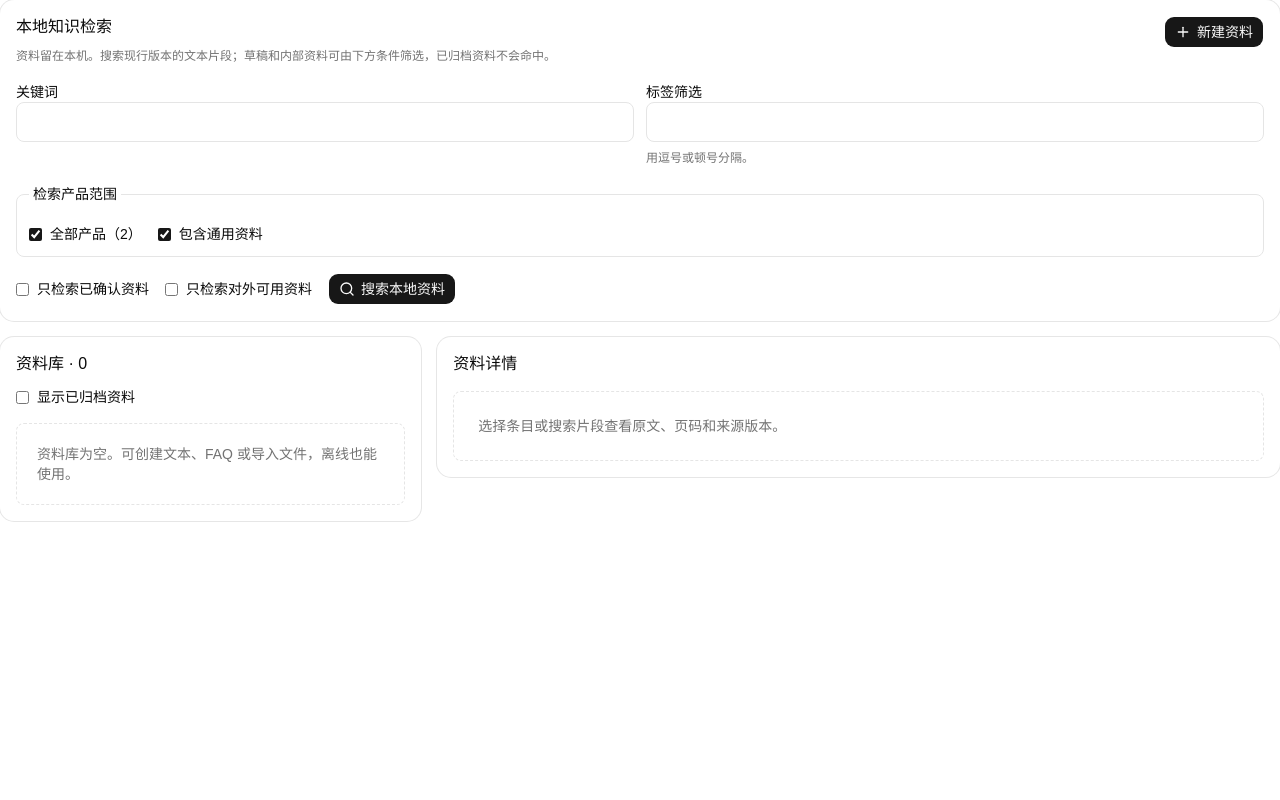
Test: local knowledge workspace › retrieves native saved material with selected scope when the document cache is stale and empty
Click the checkbox labelled "全部产品（2）": (36, 234) [29,228,42,240]
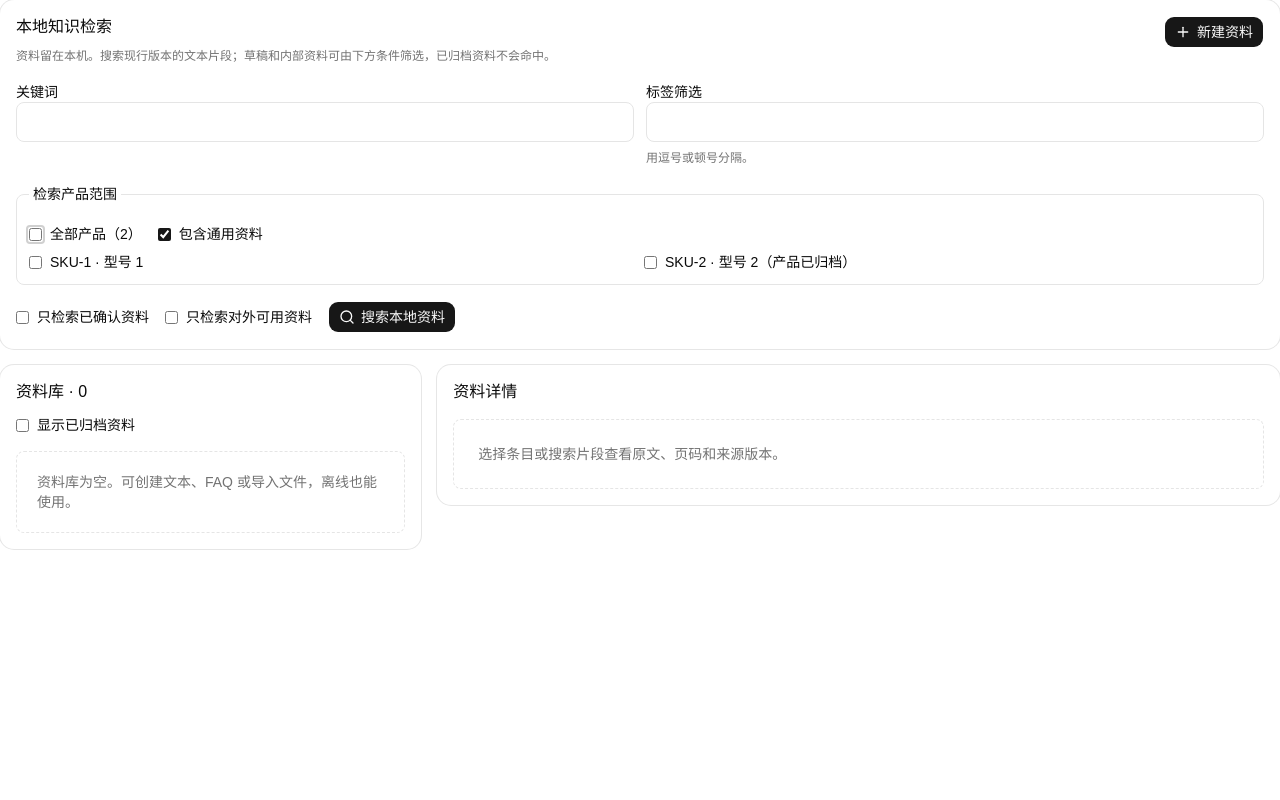
Click the checkbox labelled "SKU-1 · 型号 1": (36, 262) [29,256,42,269]
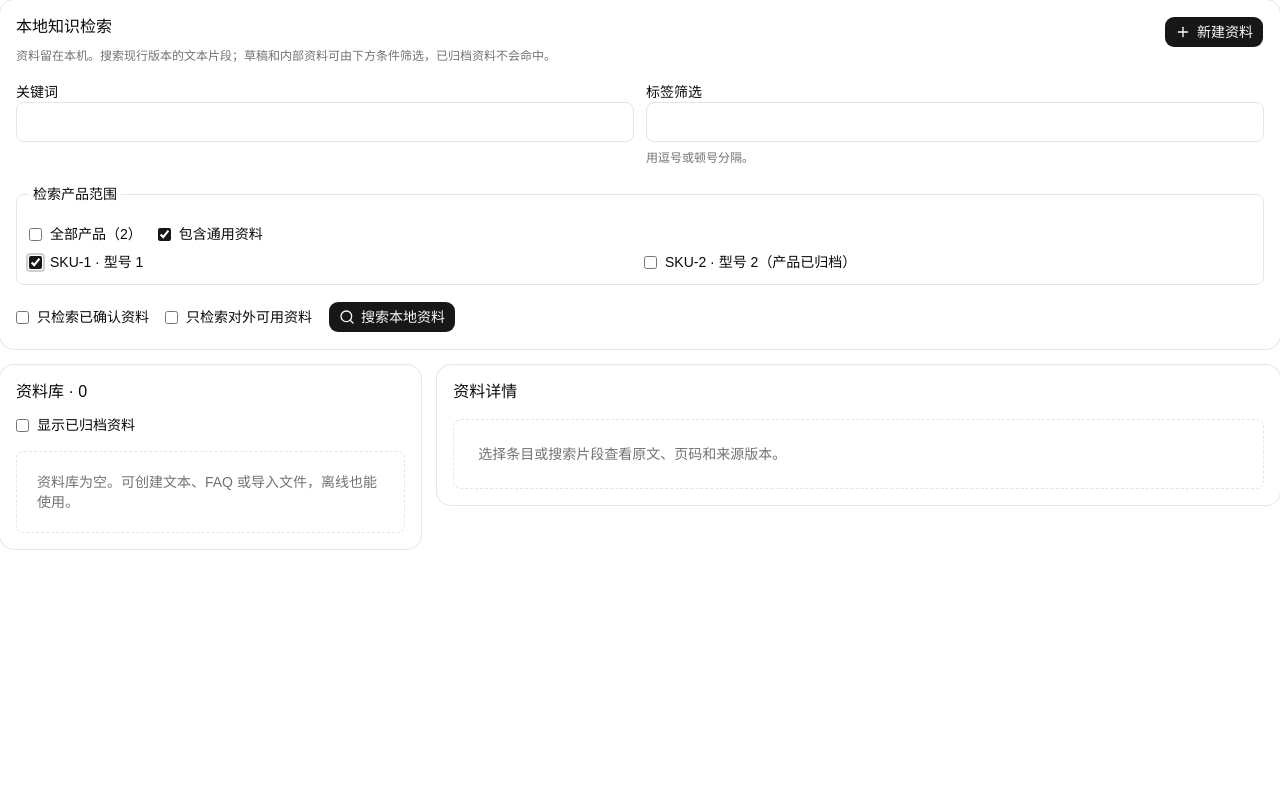
Click the checkbox labelled "包含通用资料": (164, 234) [158,228,171,240]
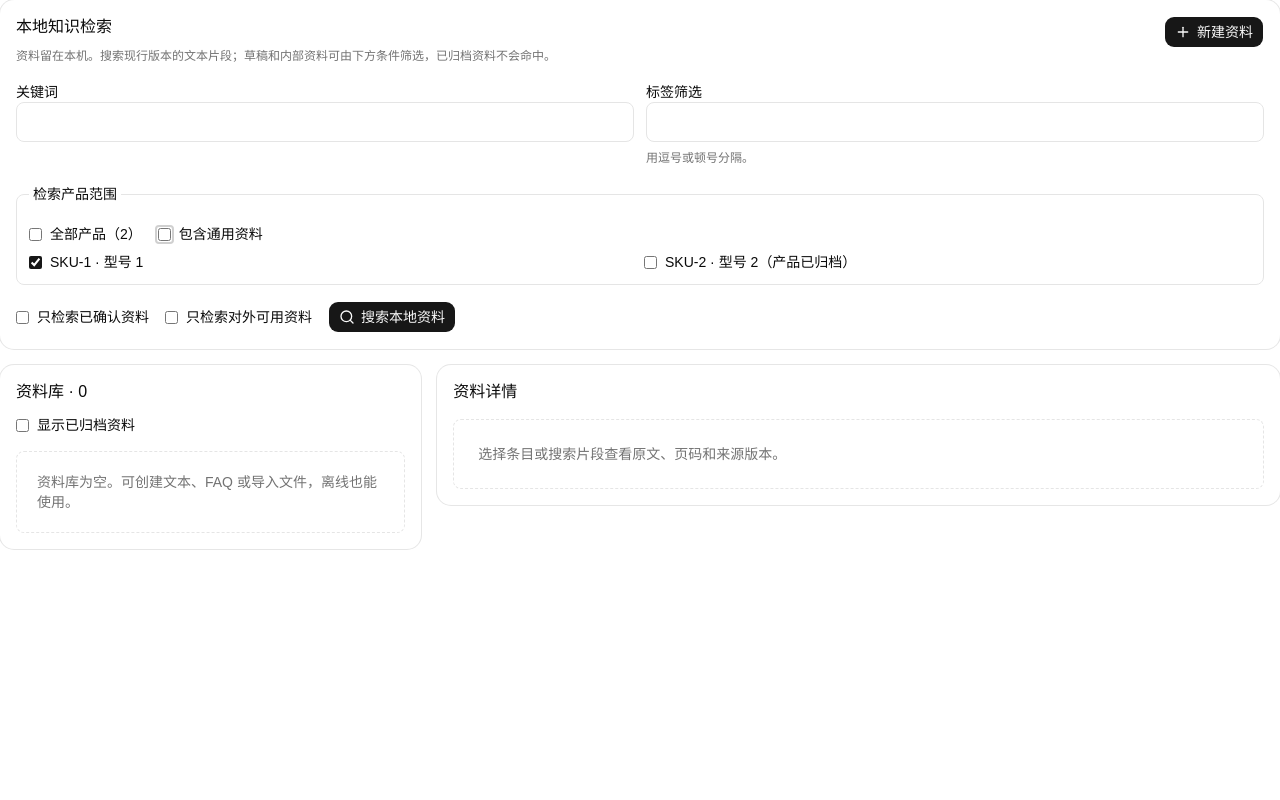
In the field labelled "关键词": (325, 122) [16,102,634,142], type "容量"
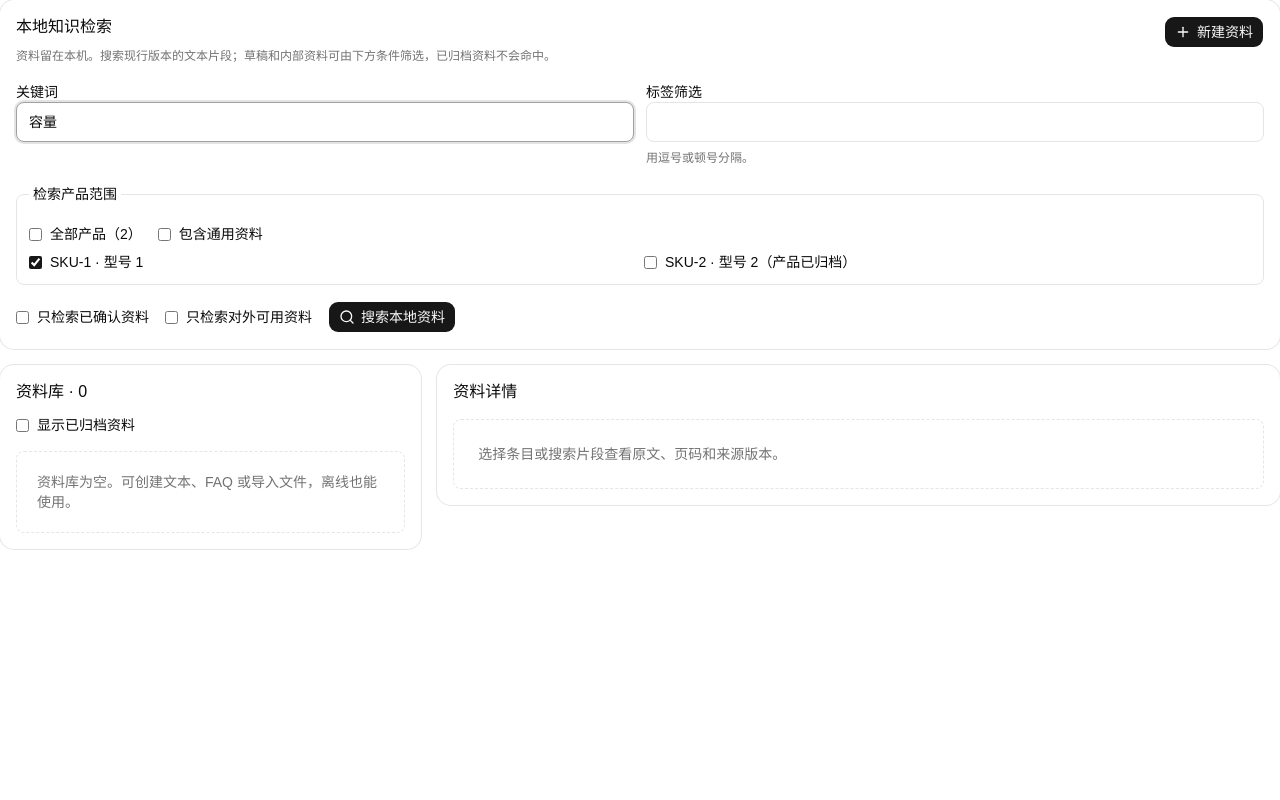
Click the button "搜索本地资料": (392, 317) [328,301,456,333]
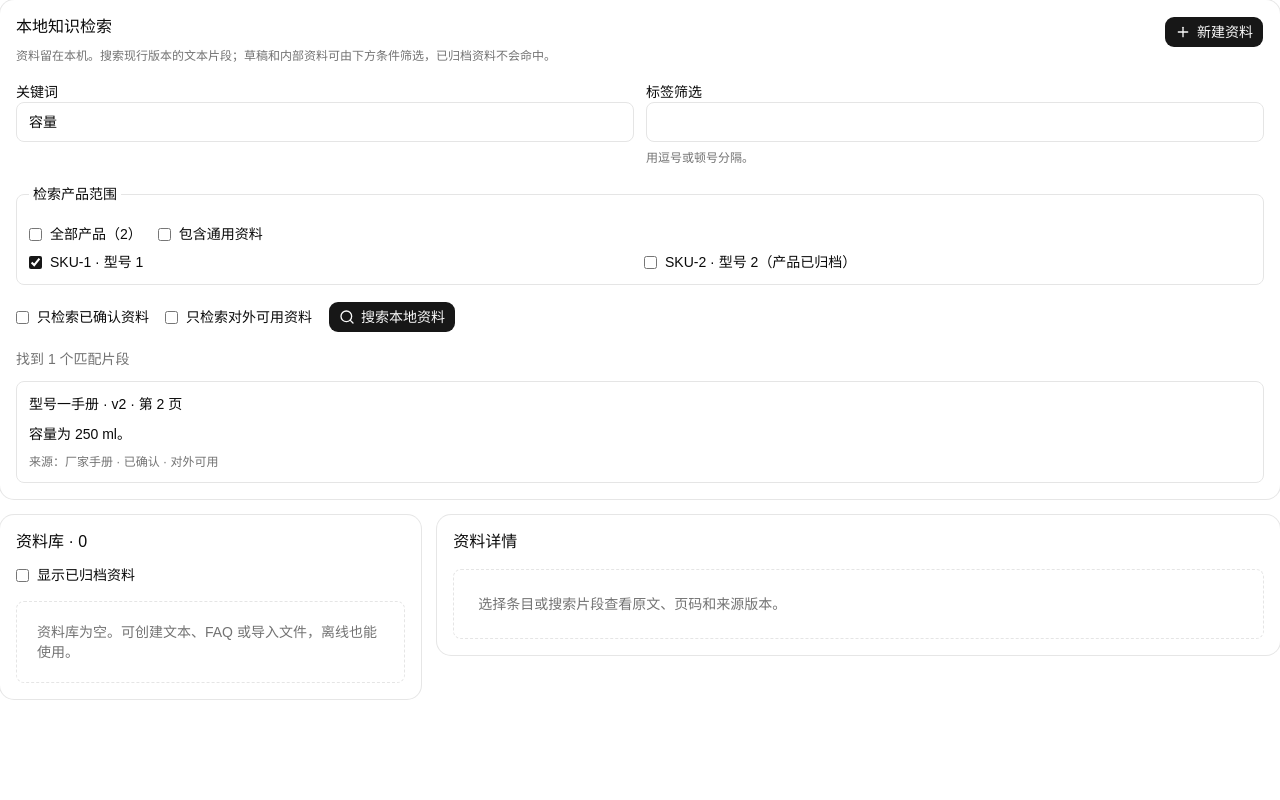
Result: the button "型号一手册 · v2 · 第 2 页 容量为 250 ml。 来源：厂家手册 · 已确认 · 对外可用" is shown at [16,381,1264,483]
